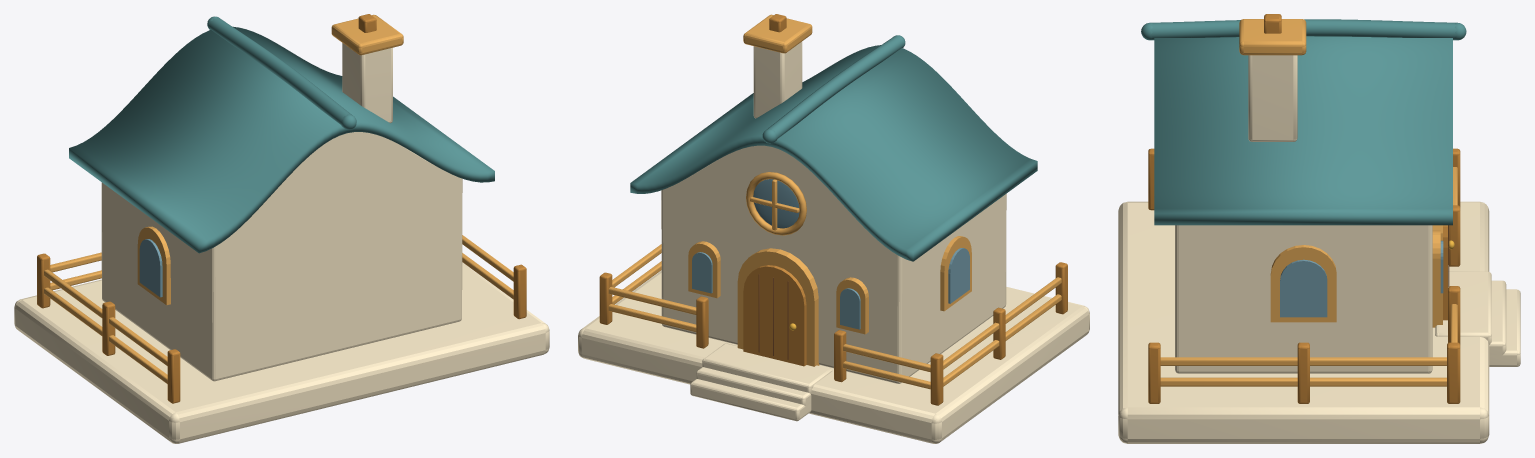
Rendered from house.fbx.
3 renders of one model, left to right at view 1: azimuth 30°, elevation 25°; view 2: azimuth 150°, elevation 25°; view 3: azimuth 270°, elevation 25°, orthographic. The views are drawn at different scales.
Visible parts, largest first — view 1: house; view 2: house; view 3: house.
Boxes of the visible parts, bbox=[...] form: house: bbox=[14, 14, 549, 443]; house: bbox=[578, 14, 1089, 443]; house: bbox=[1118, 14, 1520, 443].
Size of the model in its own units: 5 by 4 by 4.
1 material, 1 textured.
